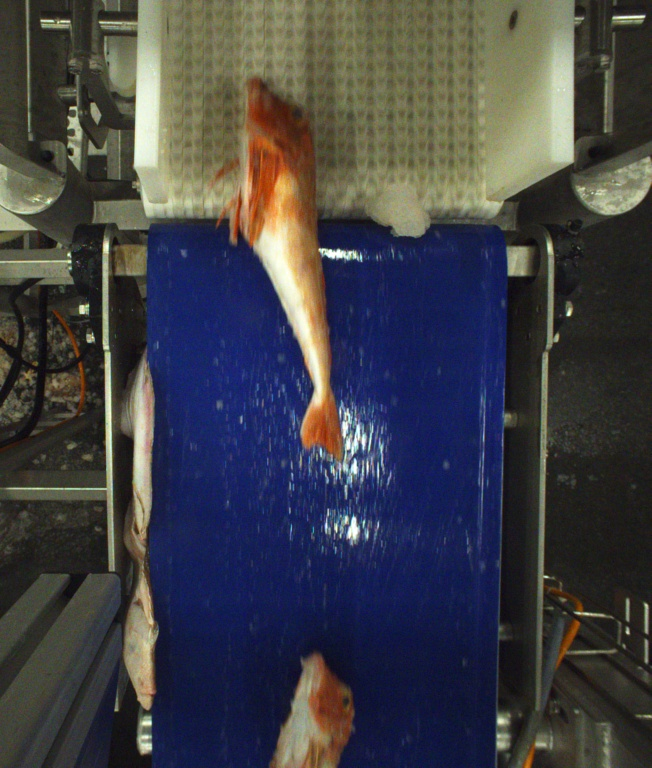GUU: (254, 654, 355, 765)
